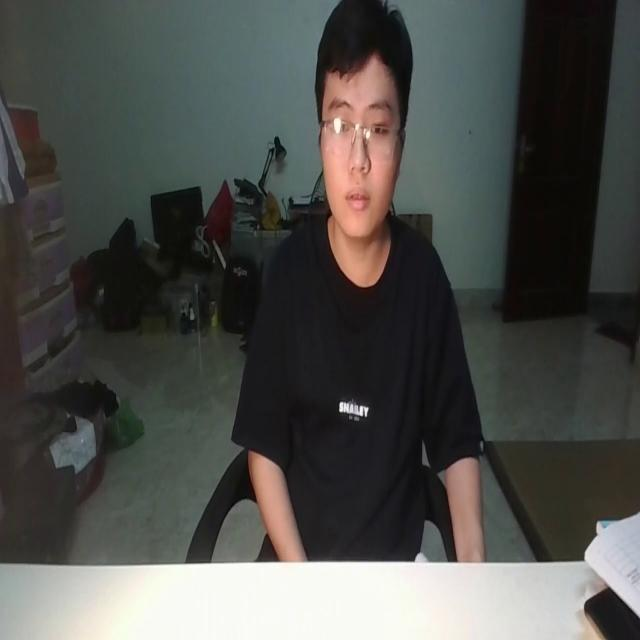student: (230, 0, 489, 562)
